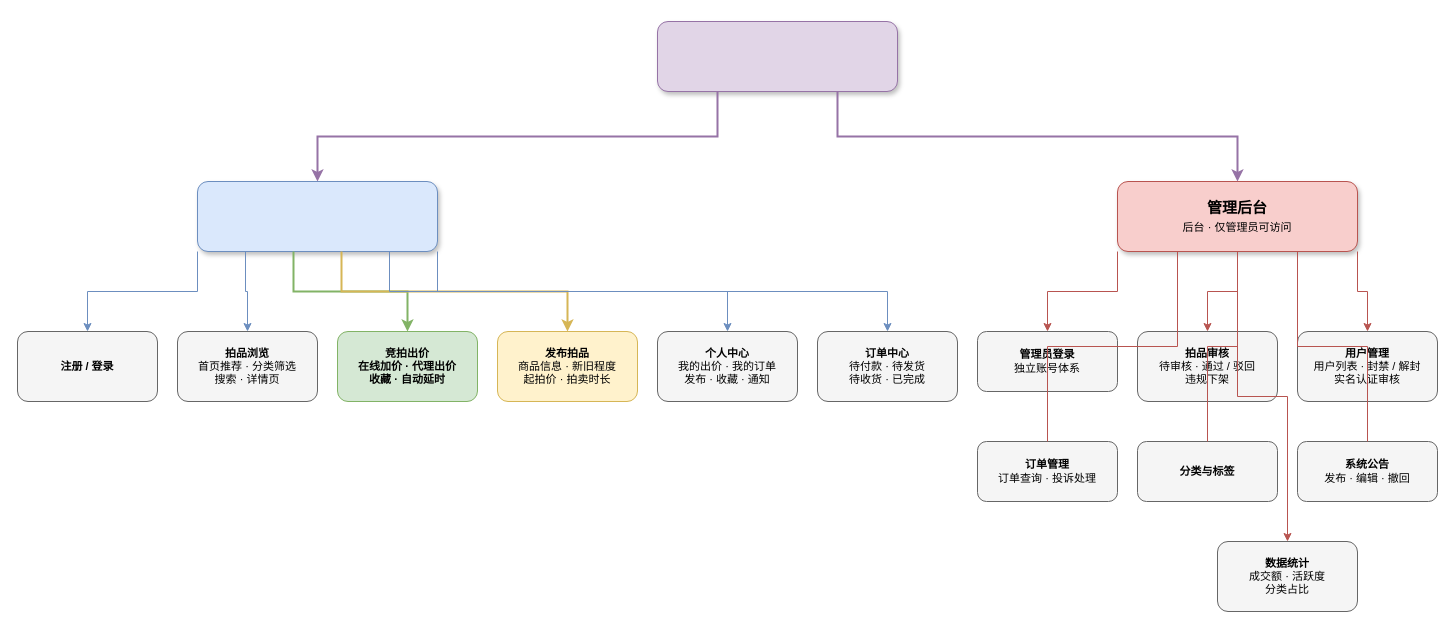
The diagram is 1455 pixels wide and 629 high, and some of its shapes have lost their labels. Here are the shapes that lost their labels. From the top down, the centre of each, then its label:
At point (778, 57): "二手物品拍卖系统 Second-hand Auction System".
At point (318, 217): "用户端 前台 · 统一身份(买家+卖家)".
